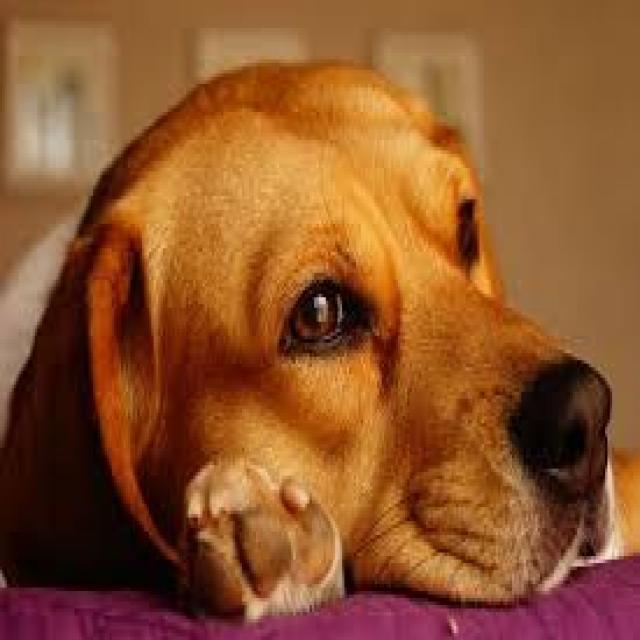Dog: (0, 56, 628, 630)
